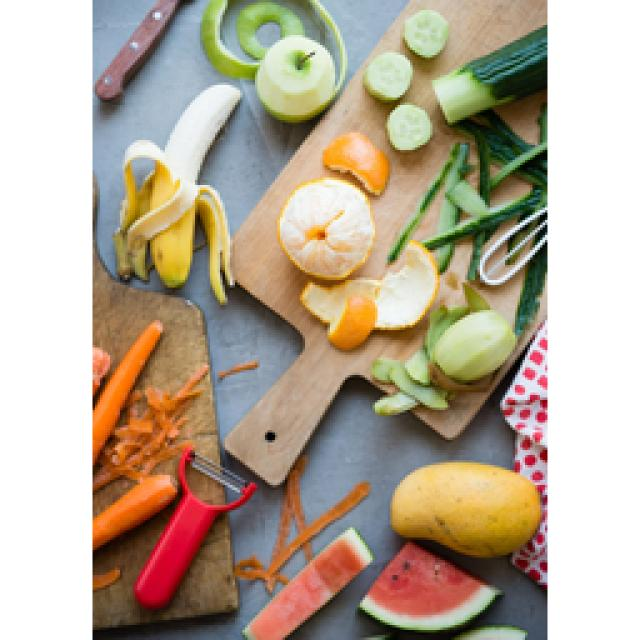food_waste: (280, 28, 545, 412), (120, 140, 228, 302), (390, 462, 538, 555), (245, 528, 368, 635), (360, 542, 498, 630), (92, 322, 158, 458), (250, 35, 338, 120), (362, 50, 430, 150), (92, 475, 172, 545), (402, 10, 448, 72)
